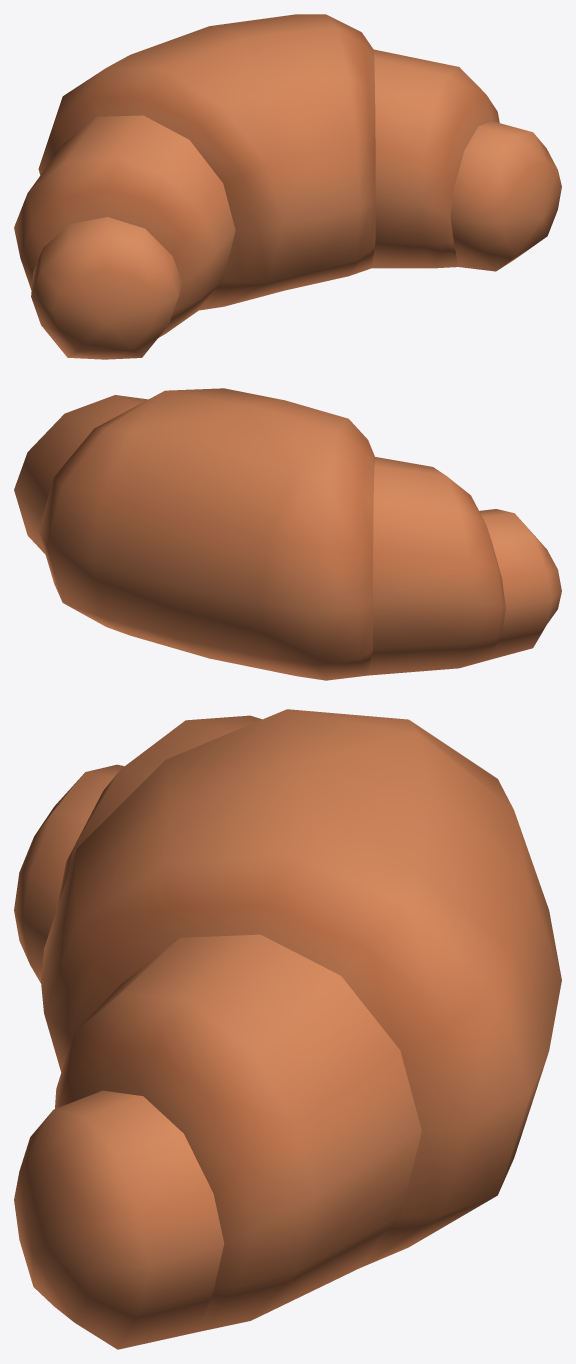
File: Croissant.glb
3 views of the same model, one above another, from view 1: azimuth 30°, elevation 25°; view 2: azimuth 150°, elevation 25°; view 3: azimuth 270°, elevation 25° (orthographic). The views are drawn at different scales.
Parts seen in each view (by area): view 1: croissant; view 2: croissant; view 3: croissant.
Boxes of the visible parts, x1=… form: croissant: x1=14, y1=14, x2=561, y2=359; croissant: x1=14, y1=388, x2=561, y2=680; croissant: x1=14, y1=709, x2=561, y2=1349.
Size of the model in its own units: 0.7365 by 0.3073 by 0.3893.
Materials: 1 (1 with a texture image).
